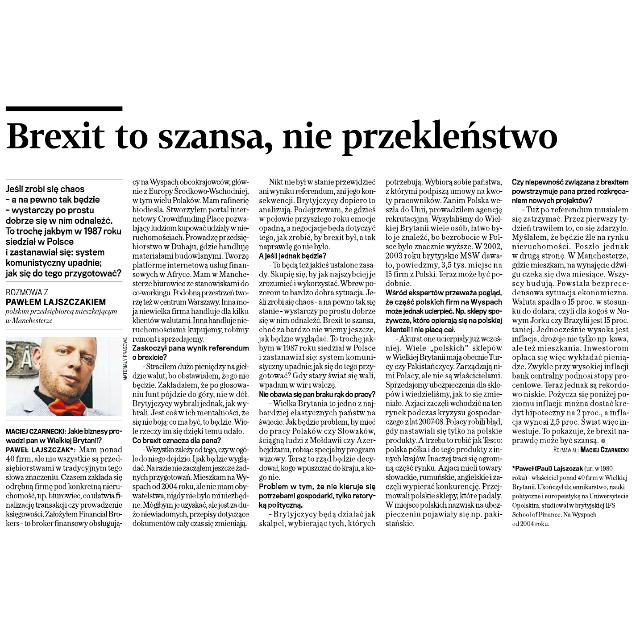author: (579, 444, 631, 454)
body: (126, 177, 250, 531), (255, 177, 378, 531), (381, 176, 504, 530), (506, 176, 630, 444), (3, 424, 125, 530), (3, 284, 121, 326)
image: (2, 333, 124, 417)
lead: (2, 182, 124, 278)
title: (5, 113, 567, 159)
